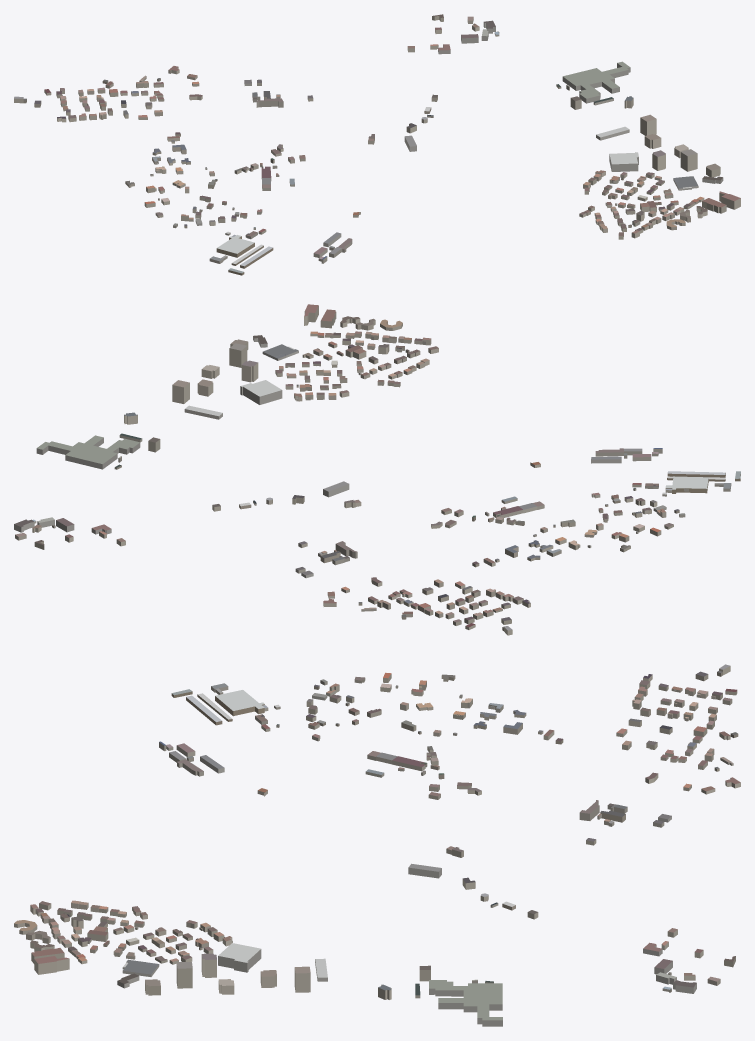
The picture shows the model from 3 angles, top to bottom: view 1: azimuth 30°, elevation 25°; view 2: azimuth 150°, elevation 25°; view 3: azimuth 270°, elevation 25°; orthographic projection. The views are drawn at different scales.
Parts seen in each view (by area): view 1: tuile; view 2: tuile; view 3: tuile.
Part boxes in pixels (x1=…): tuile: x1=14, y1=14, x2=740, y2=275; tuile: x1=14, y1=304, x2=740, y2=635; tuile: x1=14, y1=664, x2=740, y2=1026.
Size of the model in its own units: 1083 by 63.83 by 1027.
